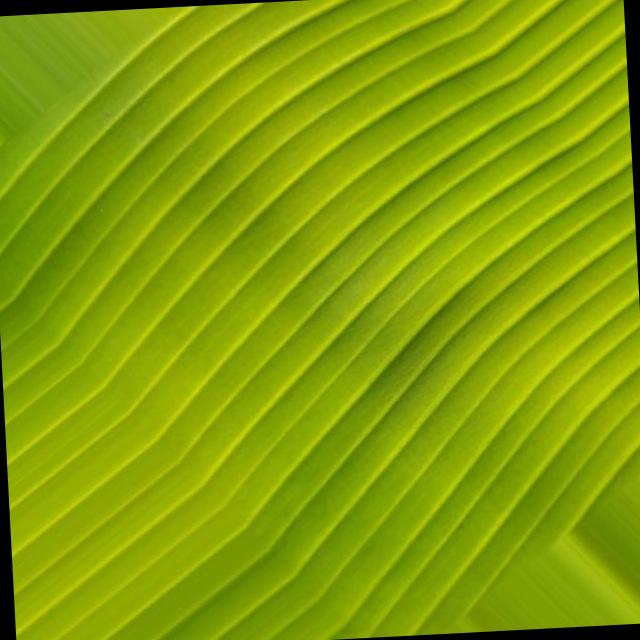Banana_Healthy: (118, 135, 537, 508)
